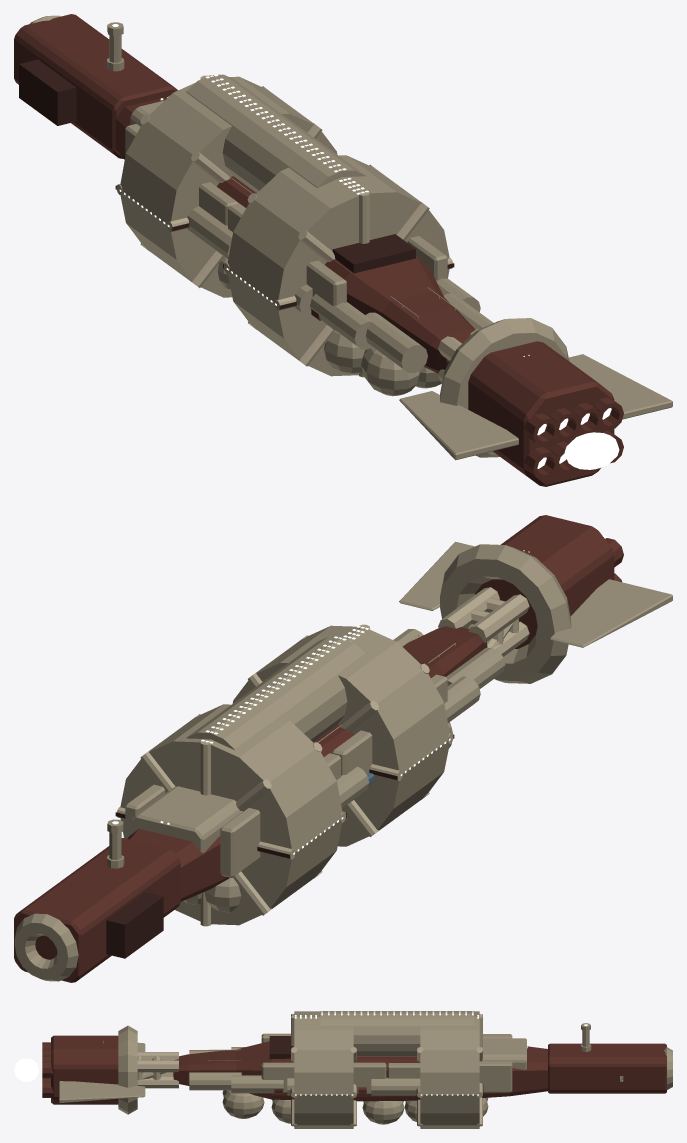
3 renders of one model, top to bottom at view 1: azimuth 30°, elevation 25°; view 2: azimuth 150°, elevation 25°; view 3: azimuth 270°, elevation 25°, orthographic. The views are drawn at different scales.
Parts seen in each view (by area): view 1: RIMWARD_HULL, RIMWARD_ENGINE_GLOW, RIMWARD_EMISSIVE; view 2: RIMWARD_HULL, RIMWARD_EMISSIVE; view 3: RIMWARD_HULL, RIMWARD_ENGINE_GLOW, RIMWARD_EMISSIVE.
Part boxes in pixels (bbox=[...]): RIMWARD_HULL: bbox=[14, 14, 672, 486]; RIMWARD_ENGINE_GLOW: bbox=[564, 432, 619, 469]; RIMWARD_EMISSIVE: bbox=[112, 24, 611, 468]; RIMWARD_HULL: bbox=[14, 515, 672, 982]; RIMWARD_EMISSIVE: bbox=[112, 550, 529, 854]; RIMWARD_HULL: bbox=[42, 1011, 672, 1128]; RIMWARD_ENGINE_GLOW: bbox=[14, 1058, 38, 1081]; RIMWARD_EMISSIVE: bbox=[103, 1011, 622, 1095].
Size of the model in its own units: 18 by 14.76 by 80.04.
